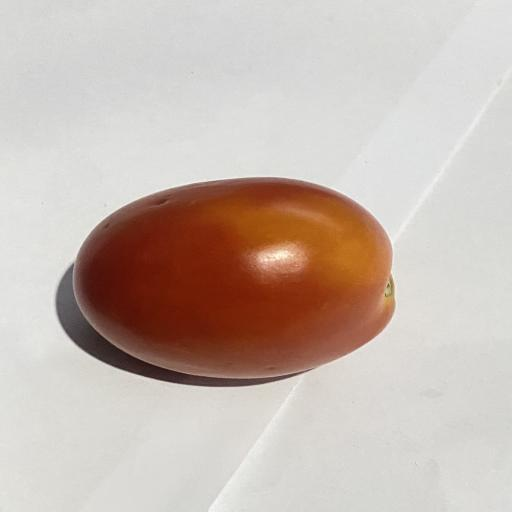ripe: (74, 178, 394, 378)
